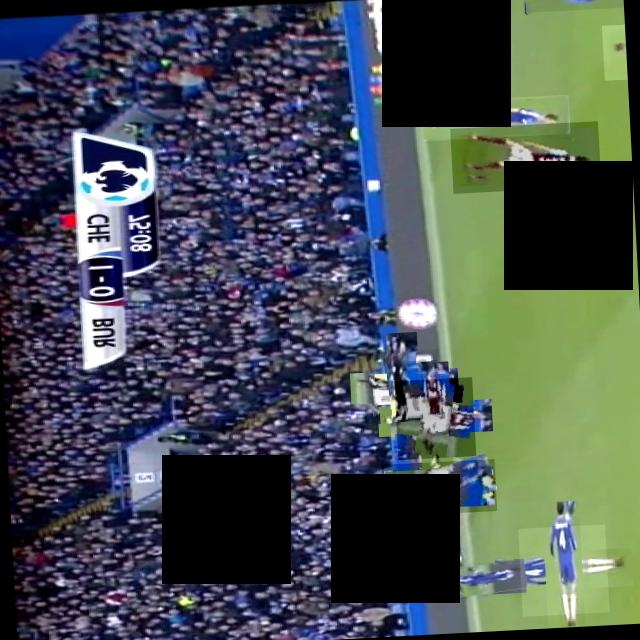referee: (366, 348, 442, 424)
soccer-player: (450, 121, 600, 194), (518, 524, 608, 616), (420, 95, 570, 142), (394, 377, 476, 460), (381, 459, 496, 517), (427, 560, 526, 600), (601, 24, 628, 80), (522, 0, 624, 13)
